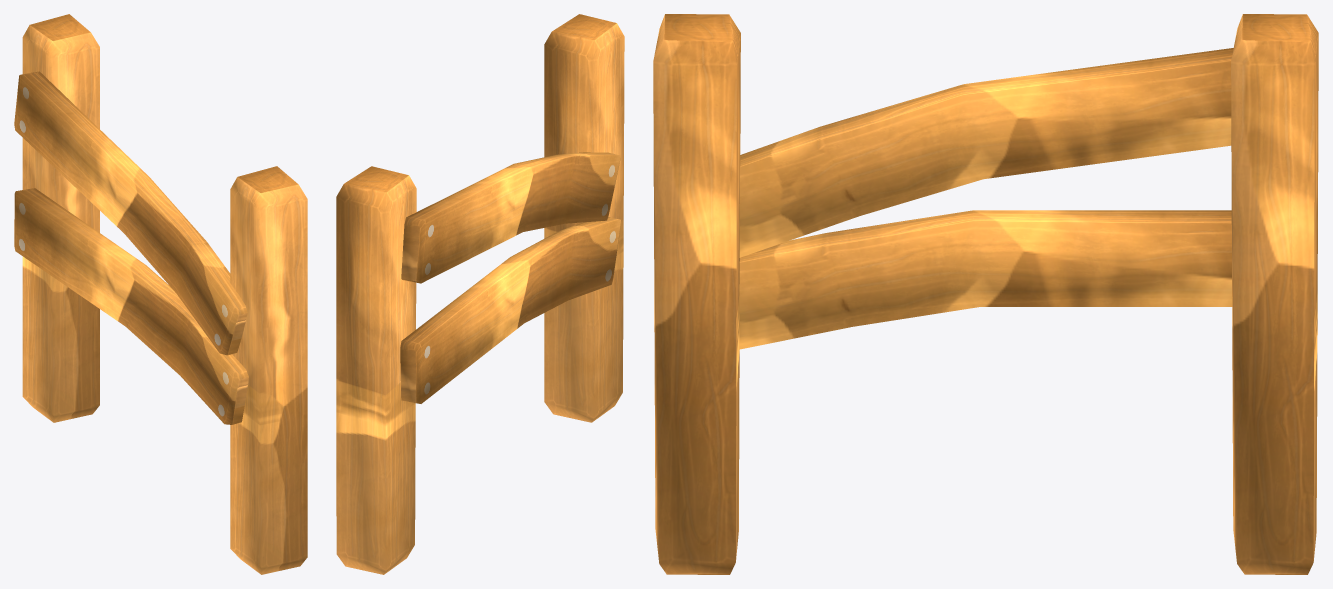
The model's file is SM_Stylized_Fence_03.fbx.
The picture shows the model from 3 angles, left to right: view 1: azimuth 30°, elevation 25°; view 2: azimuth 150°, elevation 25°; view 3: azimuth 270°, elevation 25°; orthographic projection. The views are drawn at different scales.
Visible parts, largest first — view 1: SM_Stylized_Fence_03_LOD0; view 2: SM_Stylized_Fence_03_LOD0; view 3: SM_Stylized_Fence_03_LOD0.
Boxes of the visible parts, left/top/right/bottom form: SM_Stylized_Fence_03_LOD0: left=14, top=14, right=307, bottom=574; SM_Stylized_Fence_03_LOD0: left=336, top=14, right=624, bottom=574; SM_Stylized_Fence_03_LOD0: left=653, top=14, right=1318, bottom=574.
Size of the model in its own units: 26.42 by 152 by 135.
